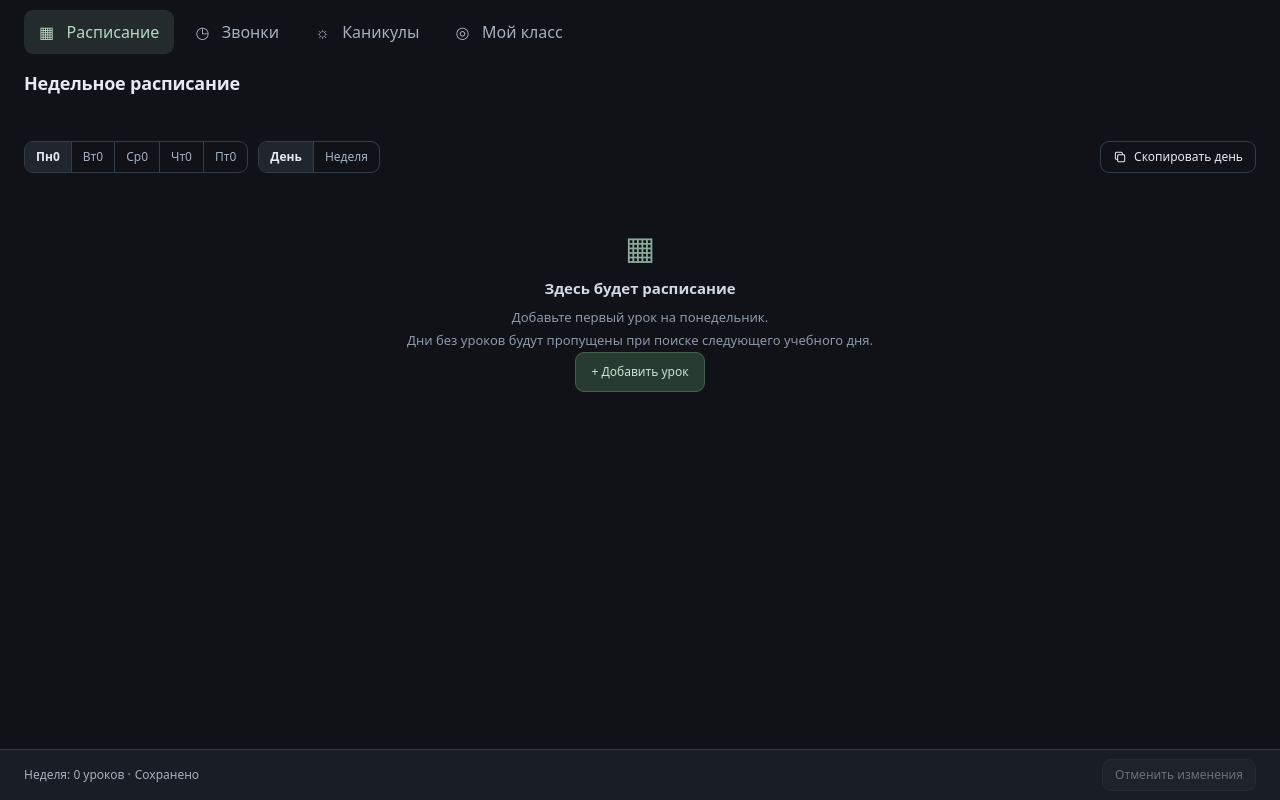
Scenario: в неделе урок копируется Ctrl+C / Ctrl+V и удаляется Delete
Check: the heading "Здесь будет расписание" is shown, box [544,278,736,298]
Click the button "Неделя": [346, 157] box [313,142,379,172]
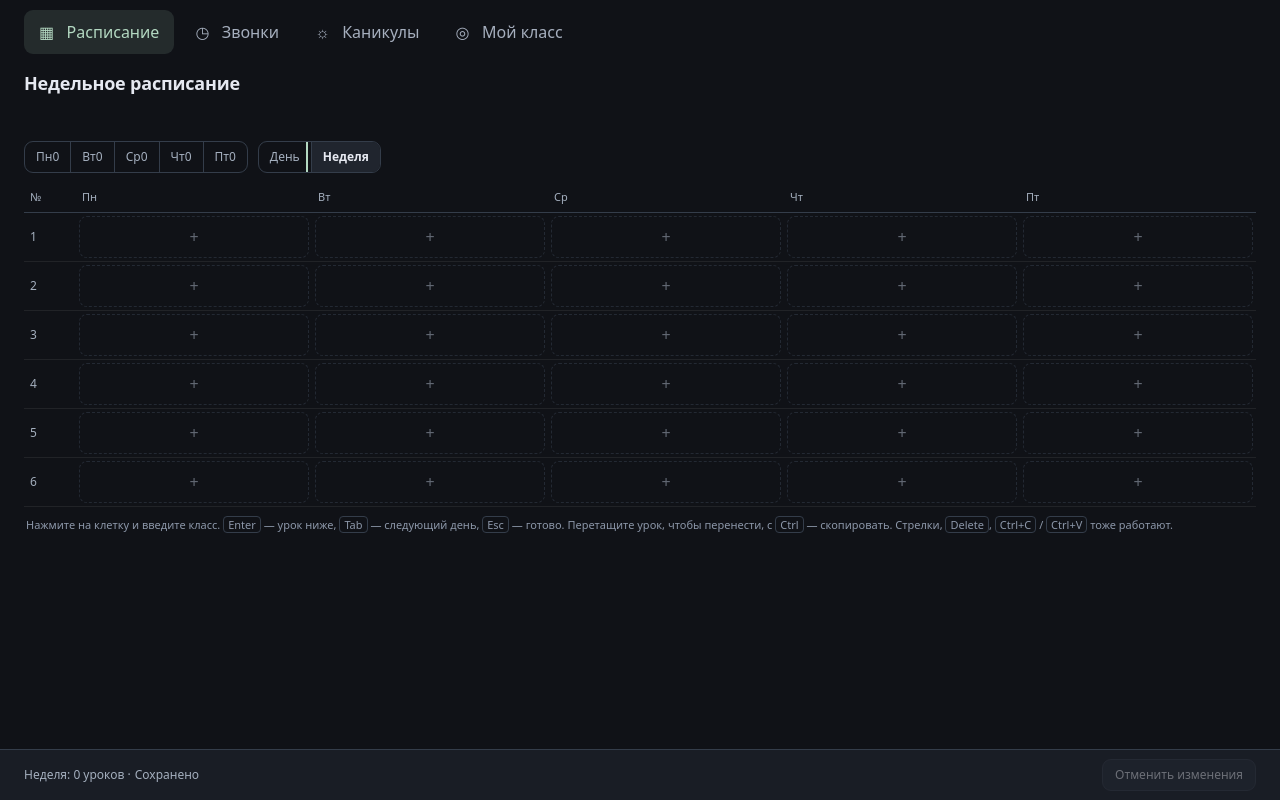
Click the button named "Добавить урок 1, Понедельник": [194, 236] box [79,216,309,258]
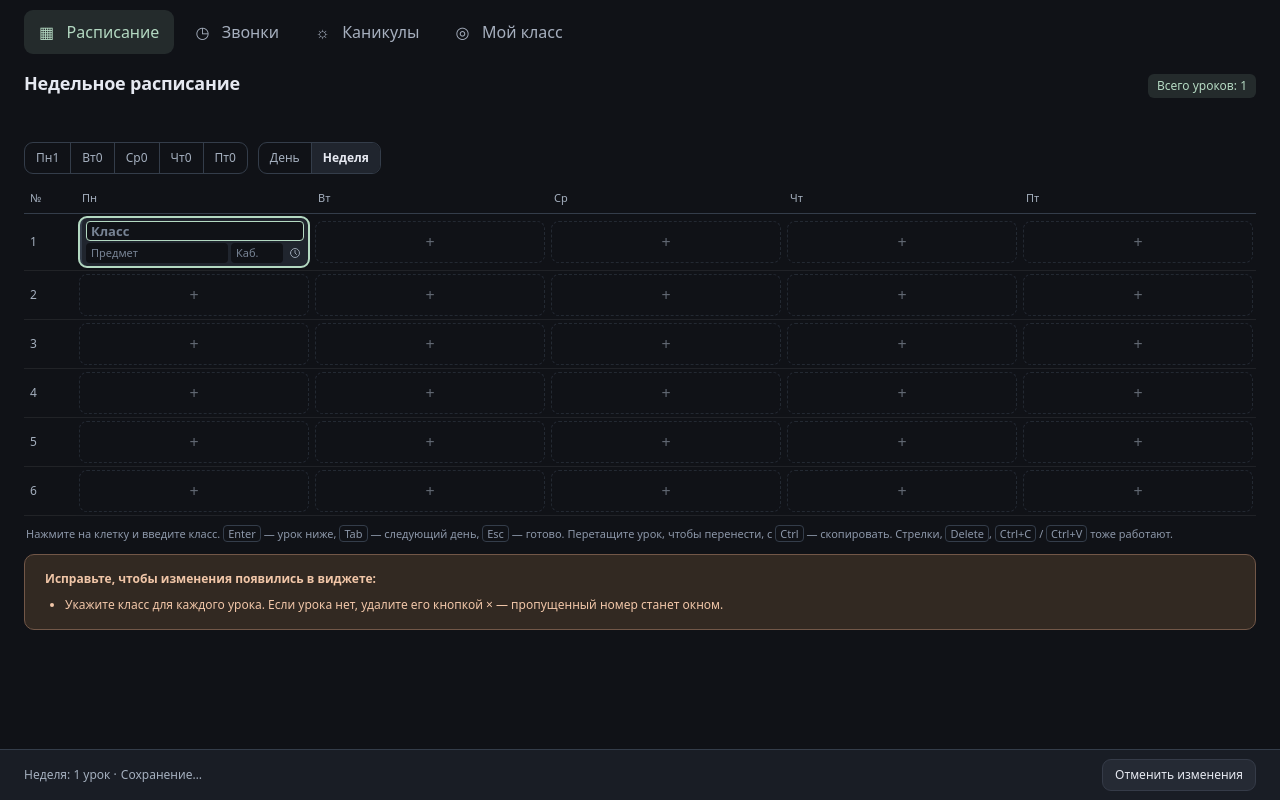
In the field named "Класс *": [195, 230] box [86,220,304,240], type "10А"
Then press Escape
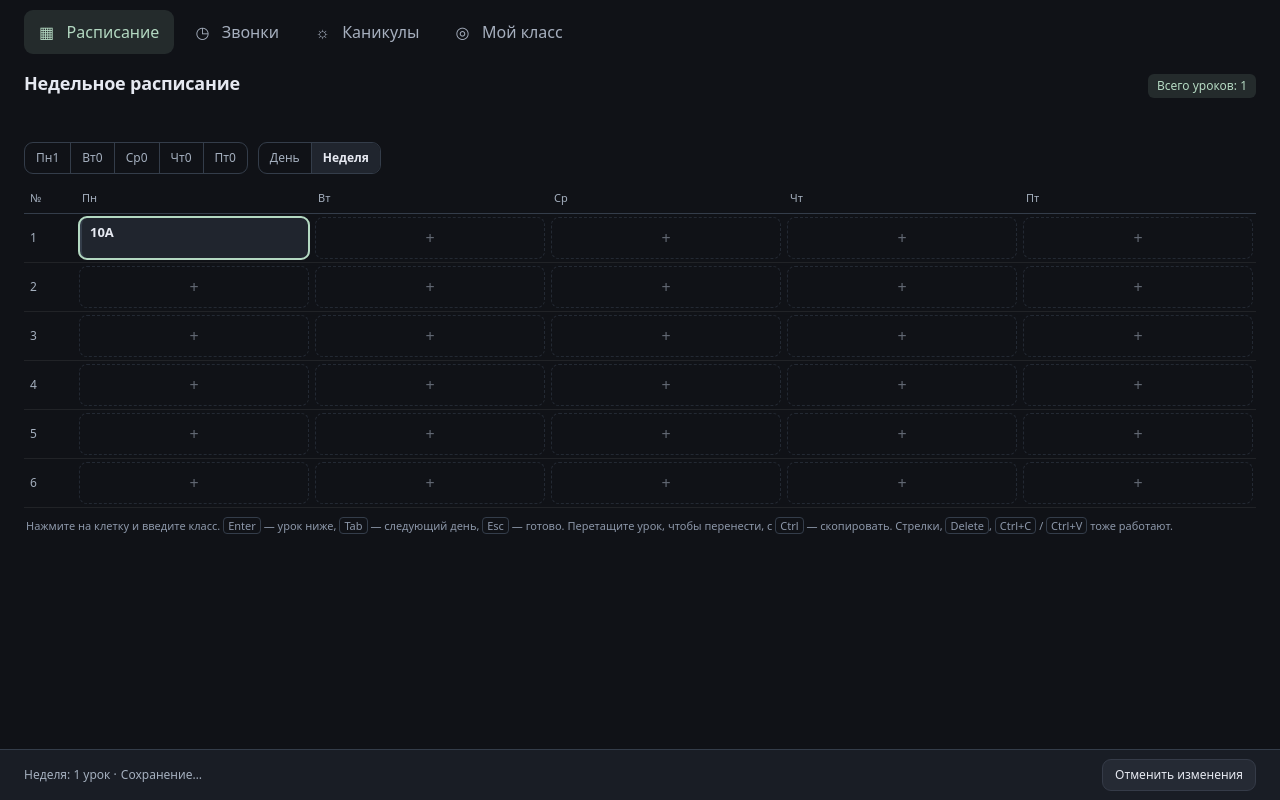
Type keys "{Control>}c{/Control}{ArrowRight}{Control>}v{/Control}"
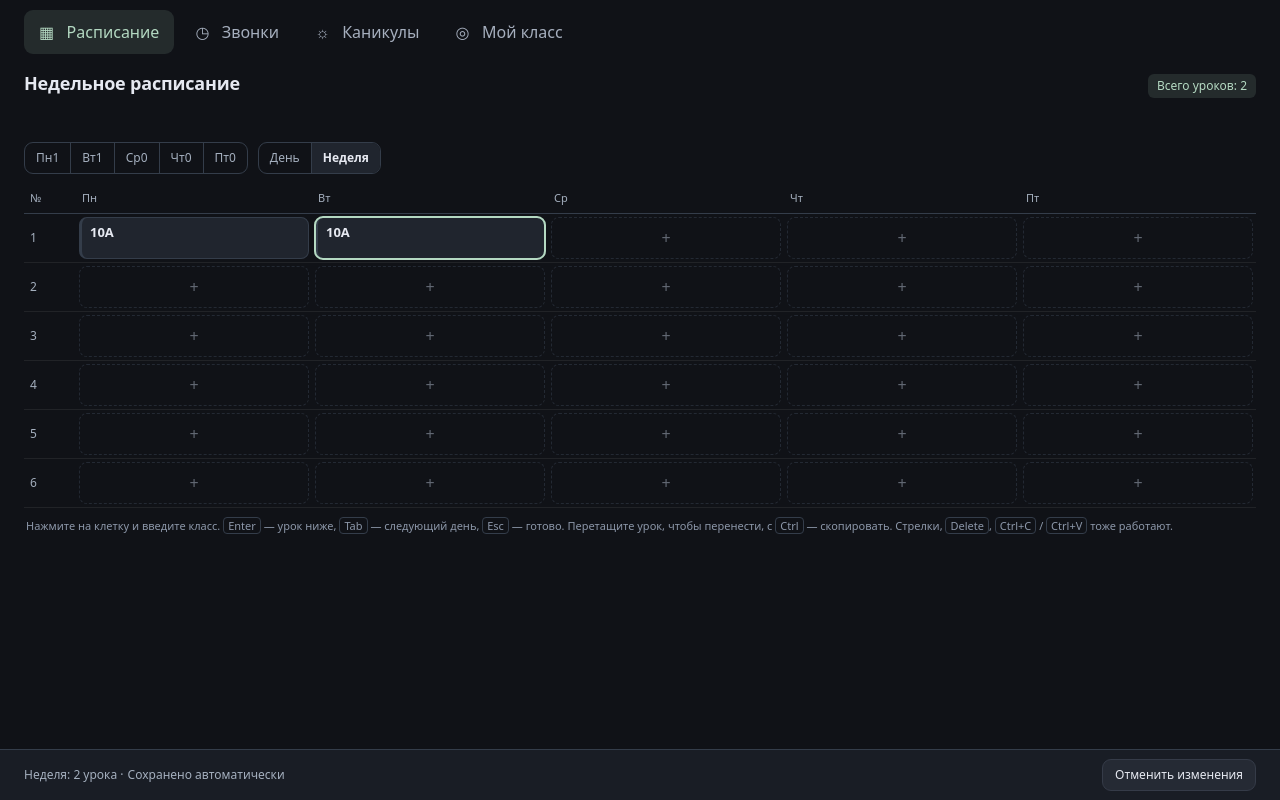
Press Delete
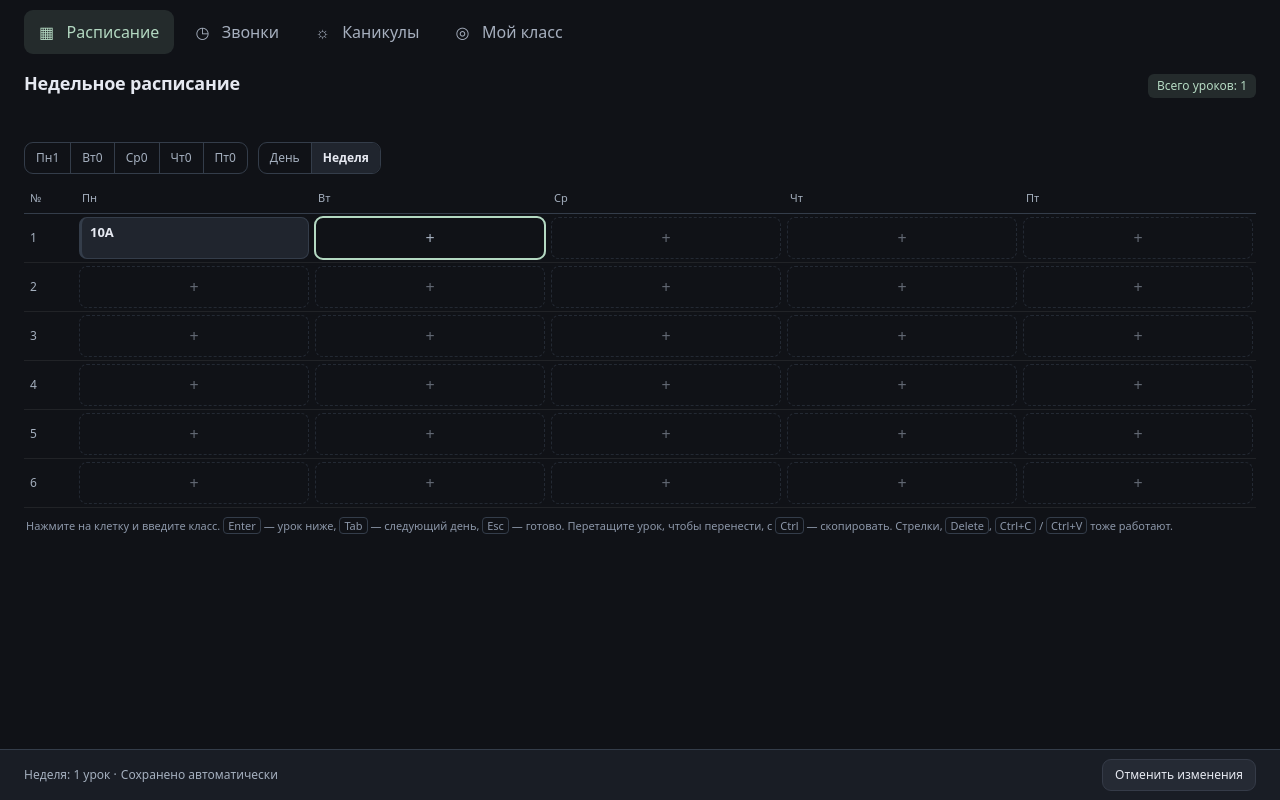
# Набор текста на клетке сразу начинает ввод класса.
Type keys "{ArrowDown}9"
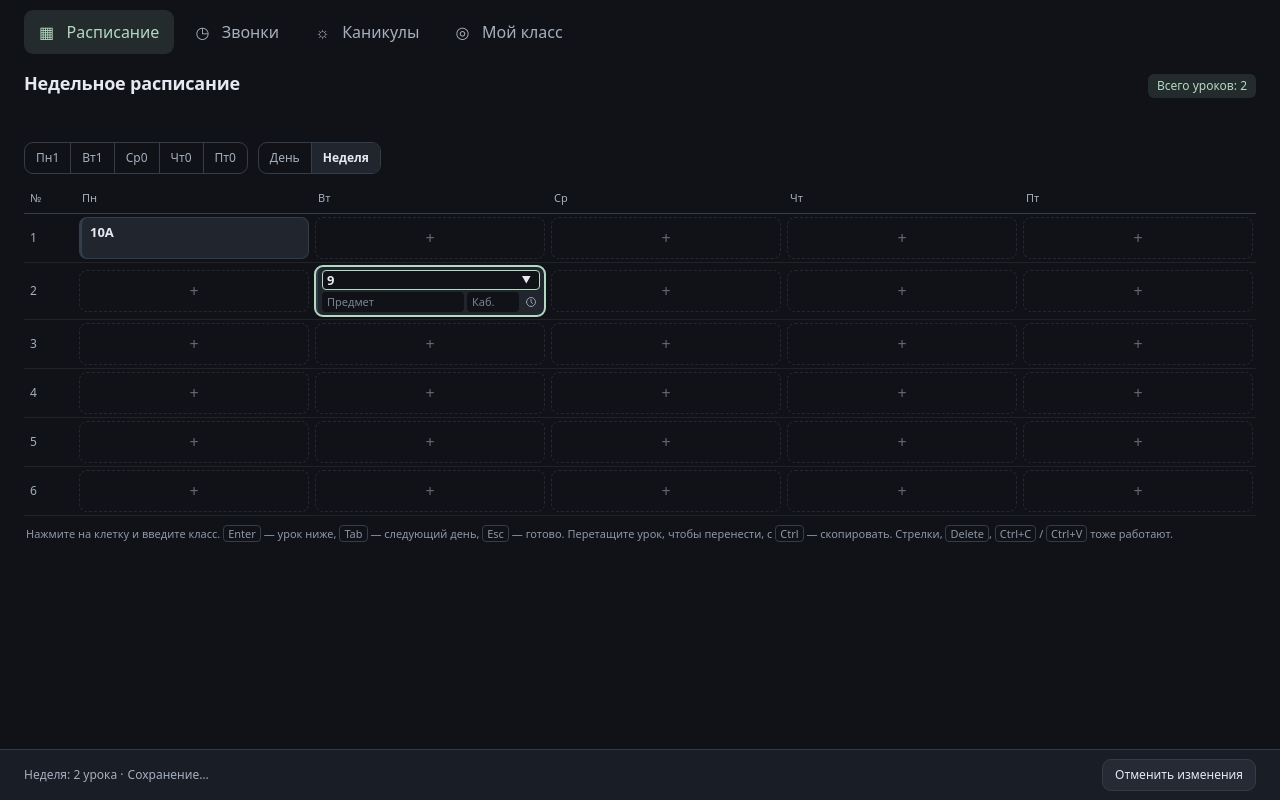
Check: the field named "Класс *" holds "9", box [322,270,540,290]
